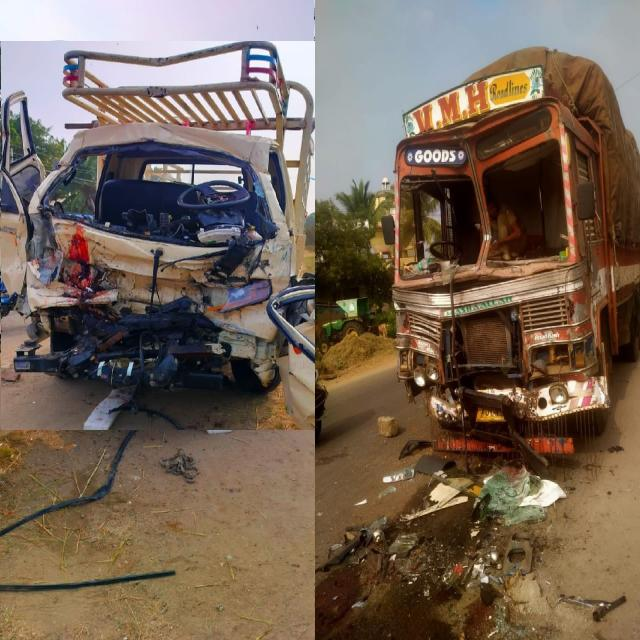accident: (0, 41, 315, 430), (392, 47, 640, 468)
